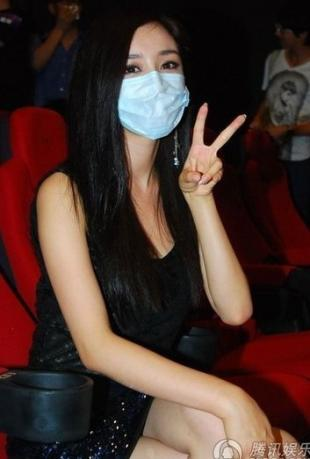mask: (105, 39, 206, 134)
